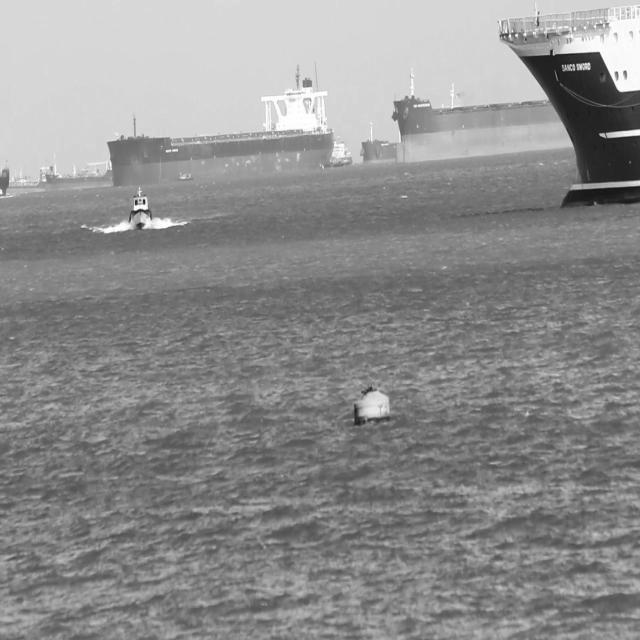buoy: (351, 380, 392, 428)
ship: (500, 0, 639, 213), (106, 66, 334, 190), (391, 64, 578, 168), (44, 158, 112, 192), (360, 121, 403, 166), (1, 164, 42, 199), (128, 185, 156, 234), (325, 138, 358, 170), (0, 184, 6, 201)
